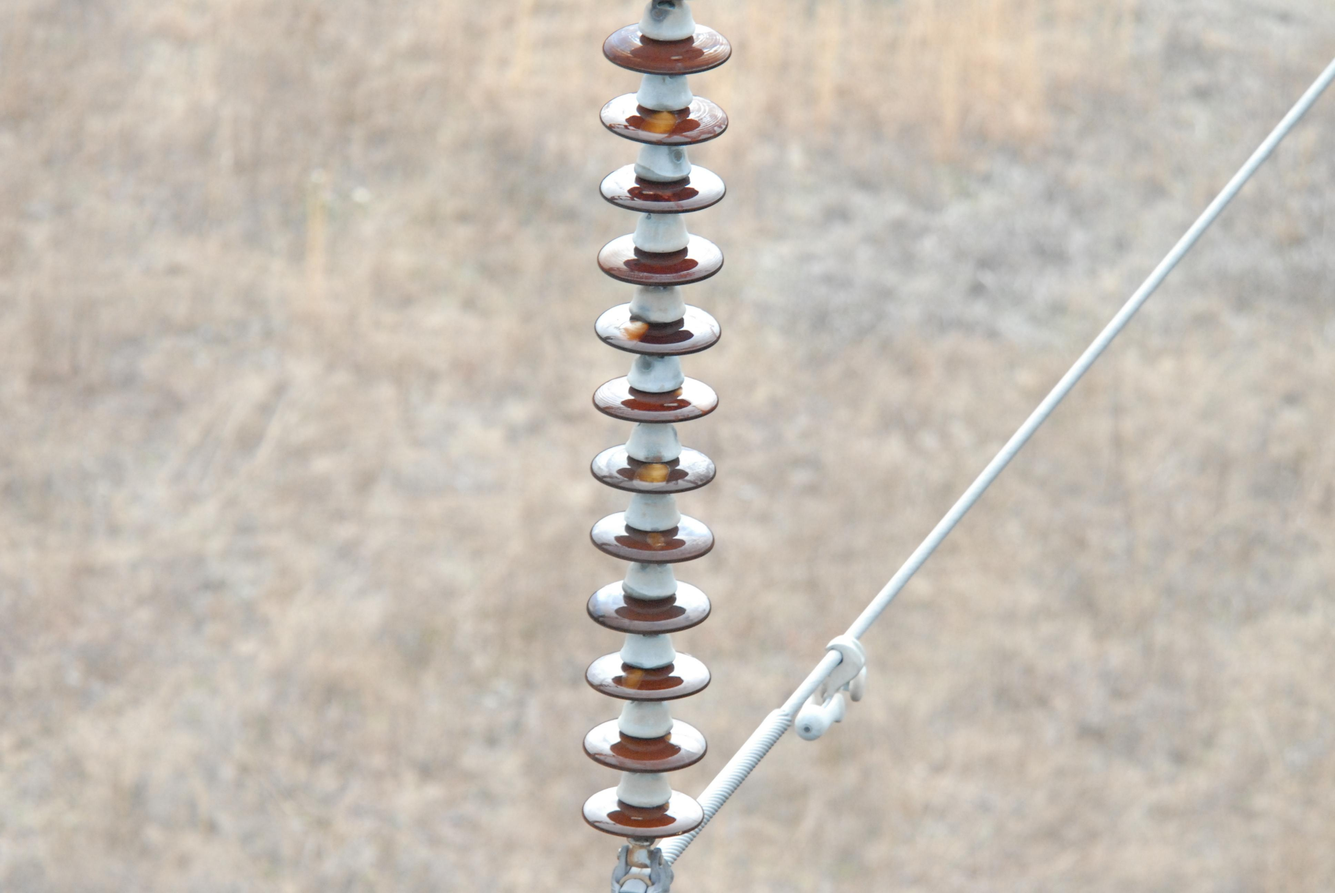Flashover: (635, 106, 682, 142), (631, 455, 675, 491), (613, 313, 654, 350), (640, 525, 668, 557), (617, 663, 647, 691)
hammer: (796, 626, 873, 739)
insulator: (584, 27, 737, 842)
